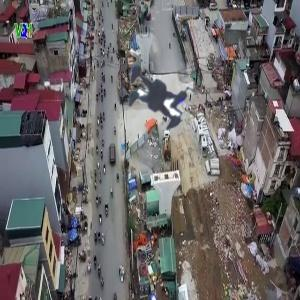drone: (88, 26, 230, 168)
